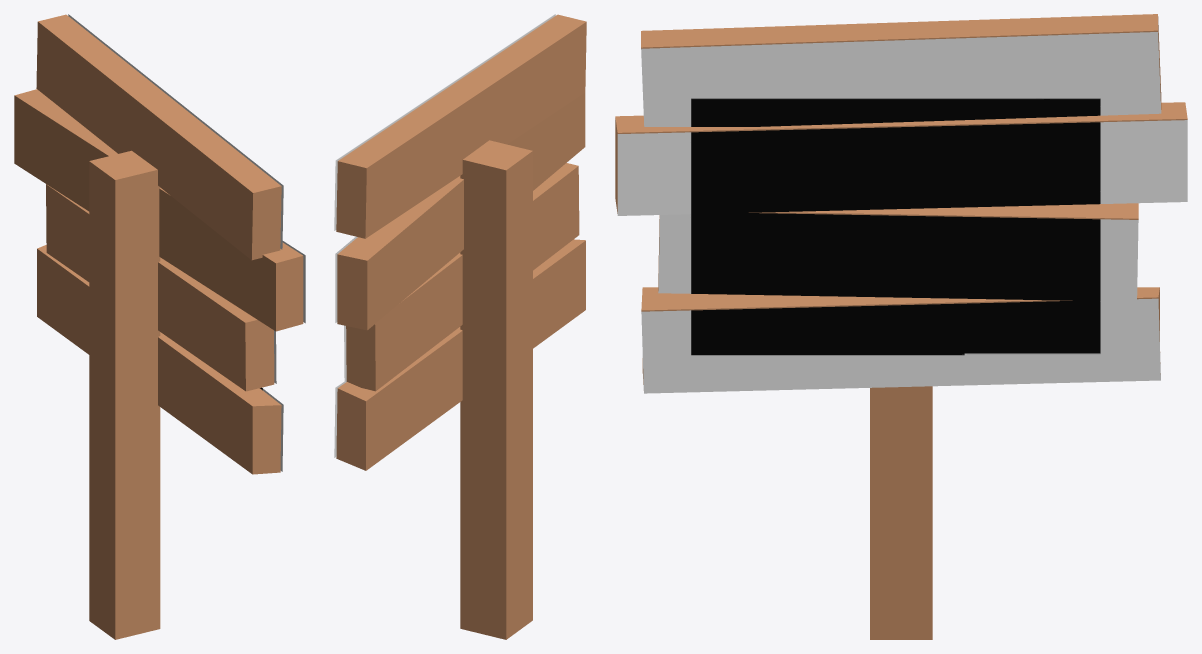
Rendered from warning_sign.fbx.
The picture shows the model from 3 angles, left to right: view 1: azimuth 30°, elevation 25°; view 2: azimuth 150°, elevation 25°; view 3: azimuth 270°, elevation 25°; orthographic projection. The views are drawn at different scales.
Parts seen in each view (by area): view 1: Sign, Sign_Icon; view 2: Sign, Sign_Icon; view 3: Sign_Icon, Sign.
Boxes of the visible parts, box(x1,y1,x2,y2) form: Sign: box(14, 14, 303, 639); Sign_Icon: box(68, 14, 305, 471); Sign: box(336, 14, 586, 639); Sign_Icon: box(334, 14, 555, 457); Sign_Icon: box(617, 32, 1187, 393); Sign: box(615, 14, 1187, 639).
Size of the model in its own units: 37.71 by 220 by 183.
